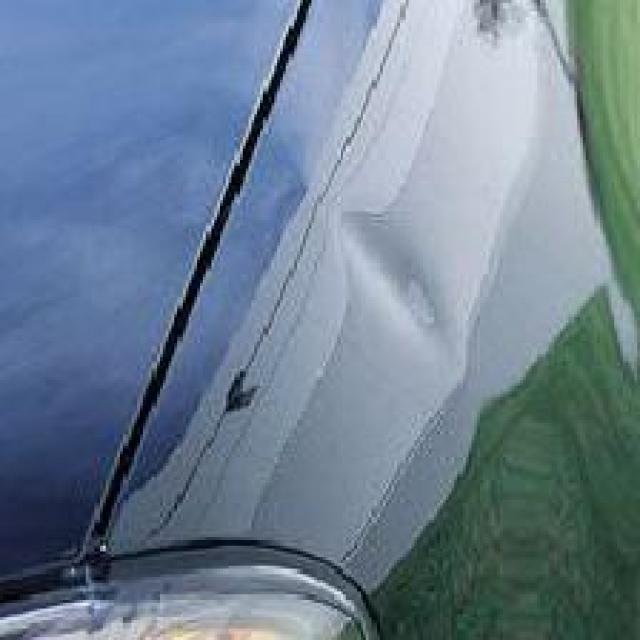door_dent_minor: (291, 183, 471, 369)
